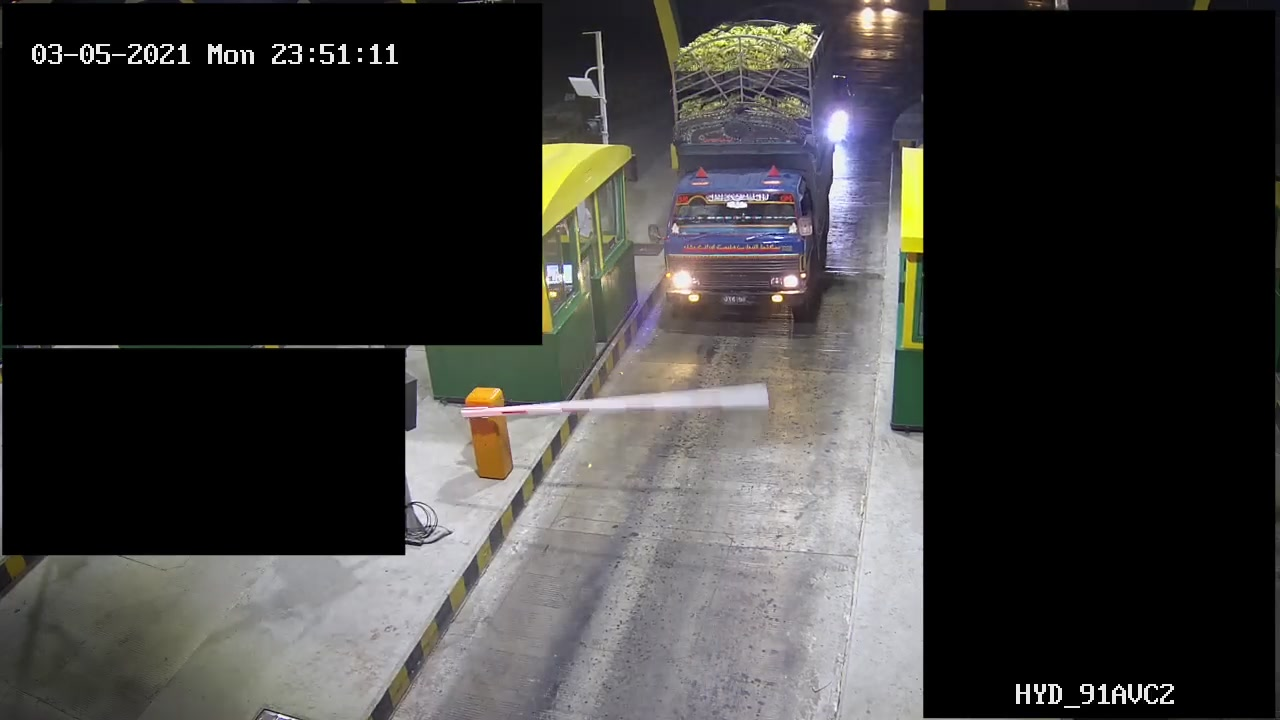F3: (660, 13, 832, 322)
